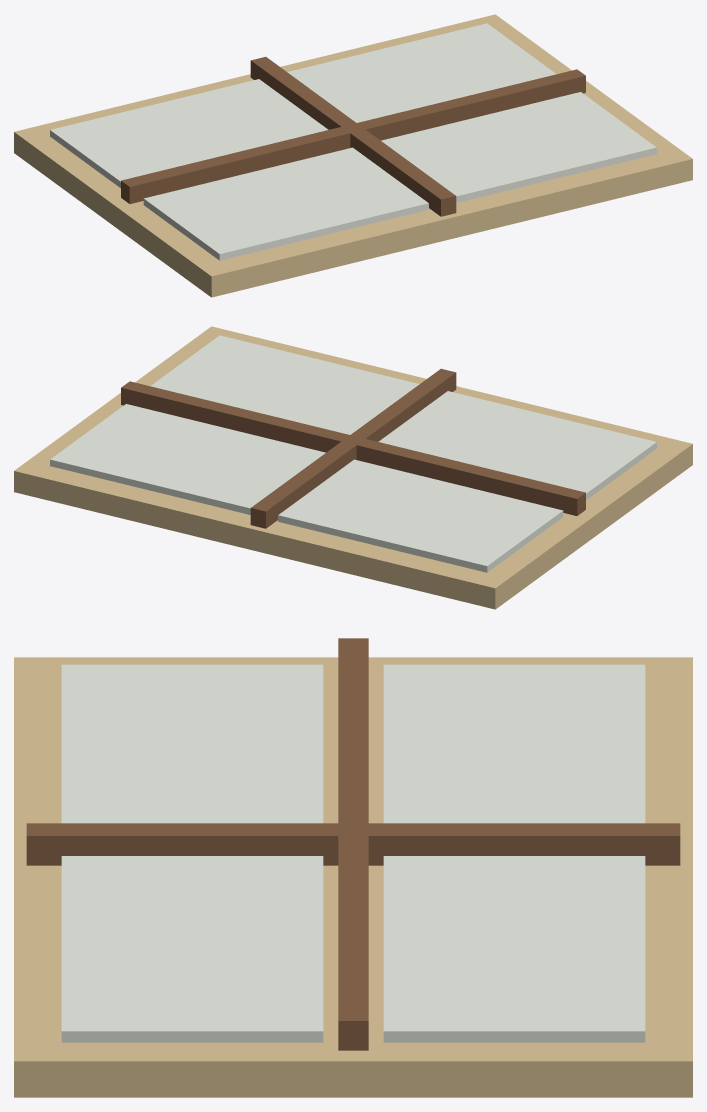
File: bld_saltworks.glb
3 views of the same model, one above another, from view 1: azimuth 30°, elevation 25°; view 2: azimuth 150°, elevation 25°; view 3: azimuth 270°, elevation 25° (orthographic). The views are drawn at different scales.
Visible parts, largest first — view 1: bld_saltworks; view 2: bld_saltworks; view 3: bld_saltworks.
Part boxes in pixels (box(x1,y1,x2,y2)): bld_saltworks: box(14, 14, 692, 297); bld_saltworks: box(14, 326, 692, 609); bld_saltworks: box(14, 638, 692, 1097).
Size of the model in its own units: 3.8 by 0.29 by 2.7.
1 material, 1 textured.
